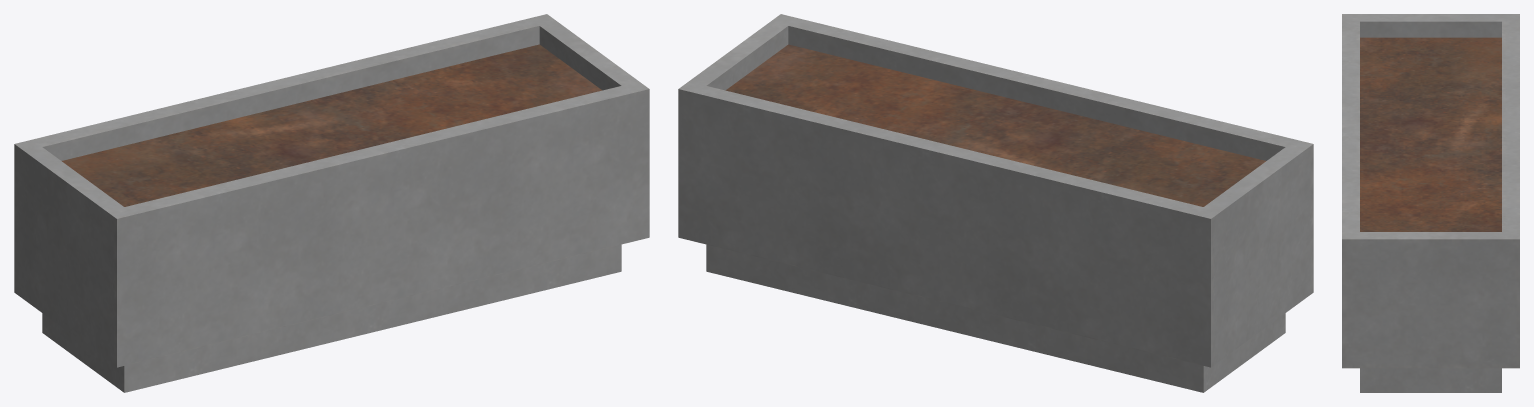
File: Planter_B.fbx
3 views of the same model, side by side, from view 1: azimuth 30°, elevation 25°; view 2: azimuth 150°, elevation 25°; view 3: azimuth 270°, elevation 25° (orthographic). The views are drawn at different scales.
Parts seen in each view (by area): view 1: Planter_B; view 2: Planter_B; view 3: Planter_B.
Boxes of the visible parts, left/top/right/bottom form: Planter_B: left=14, top=14, right=649, bottom=392; Planter_B: left=678, top=14, right=1313, bottom=392; Planter_B: left=1342, top=14, right=1519, bottom=392.
Bounding box in the file's own units: 300 × 100 × 100.
